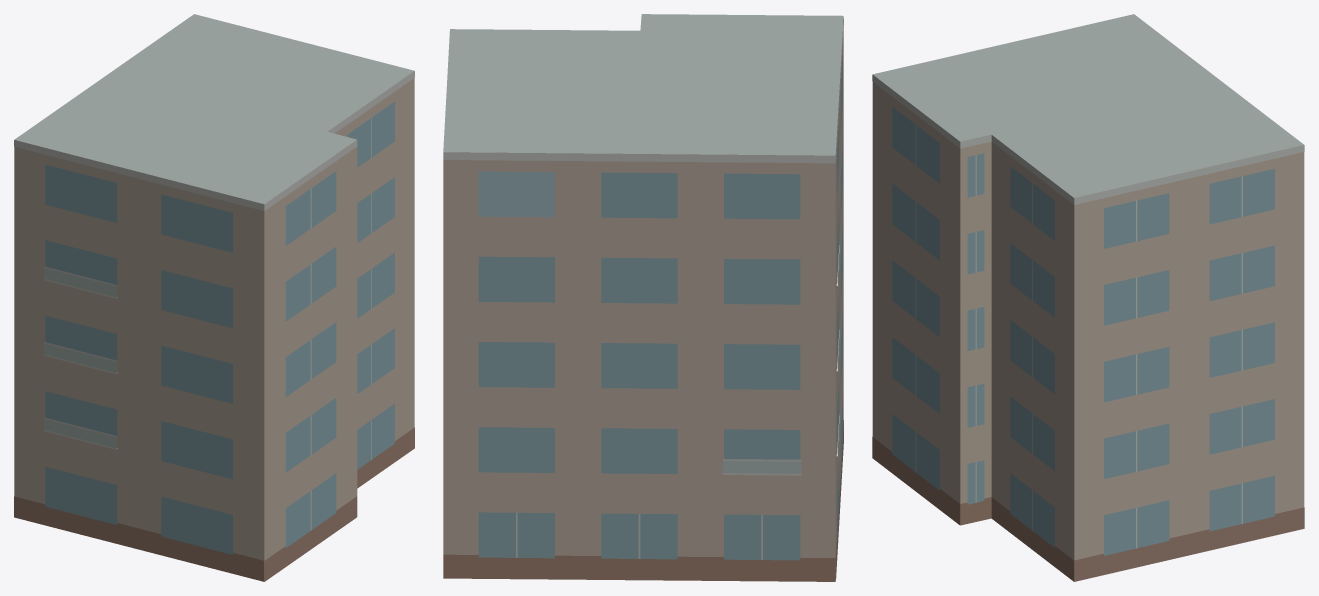
The model's file is survey-upis-32713719.glb.
3 views of the same model, side by side, from view 1: azimuth 30°, elevation 25°; view 2: azimuth 150°, elevation 25°; view 3: azimuth 270°, elevation 25° (orthographic). The views are drawn at different scales.
Visible parts, largest first — view 1: survey-upis-32713719.tmp; view 2: survey-upis-32713719.tmp; view 3: survey-upis-32713719.tmp.
Part boxes in pixels (<box>): survey-upis-32713719.tmp: <box>14,14,414,581</box>; survey-upis-32713719.tmp: <box>443,14,843,581</box>; survey-upis-32713719.tmp: <box>872,14,1304,581</box>.
Bounding box in the file's own units: 13.9 × 13.5 × 13.78.
